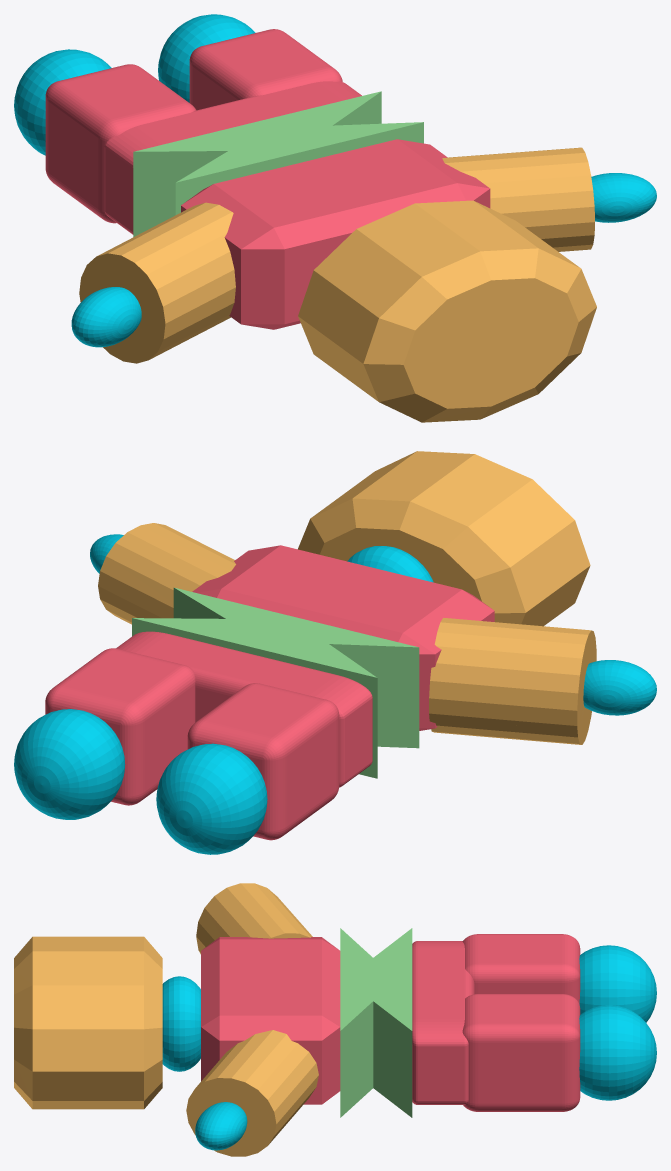
File: asset.gltf
The picture shows the model from 3 angles, top to bottom: view 1: azimuth 30°, elevation 25°; view 2: azimuth 150°, elevation 25°; view 3: azimuth 270°, elevation 25°; orthographic projection. The views are drawn at different scales.
Visible parts, largest first — view 1: Node1; view 2: Node1; view 3: Node1.
Boxes of the visible parts, x1=… form: Node1: x1=14, y1=14, x2=656, y2=422; Node1: x1=14, y1=451, x2=656, y2=854; Node1: x1=14, y1=883, x2=656, y2=1156.
Bounding box in the file's own units: 58.88 × 16.5 × 67.
